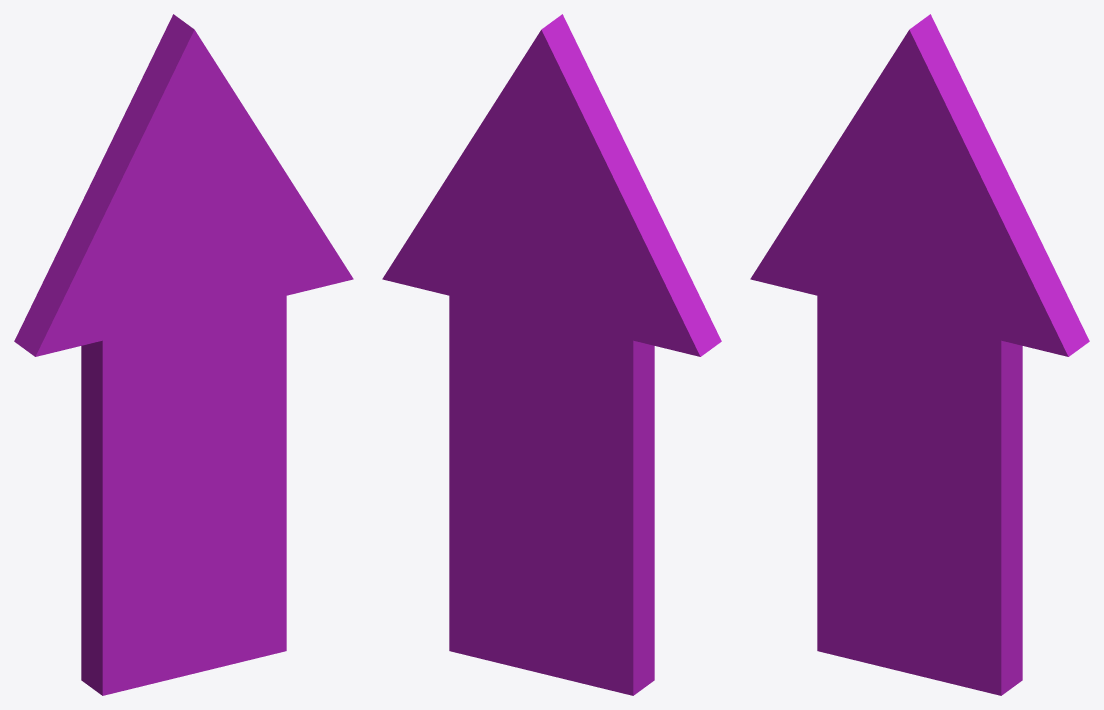
File: Arrow.fbx
3 renders of one model, left to right at view 1: azimuth 30°, elevation 25°; view 2: azimuth 150°, elevation 25°; view 3: azimuth 330°, elevation 25°, orthographic.
Visible parts, largest first — view 1: Cube, Tube; view 2: Cube, Tube; view 3: Cube, Tube.
Part boxes in pixels (bbox=[...]): Cube: bbox=[81, 266, 286, 695]; Tube: bbox=[14, 14, 353, 356]; Cube: bbox=[449, 296, 654, 695]; Tube: bbox=[382, 14, 721, 356]; Cube: bbox=[817, 296, 1022, 695]; Tube: bbox=[750, 14, 1089, 356].
Bounding box in the file's own units: 173 × 335 × 20.
